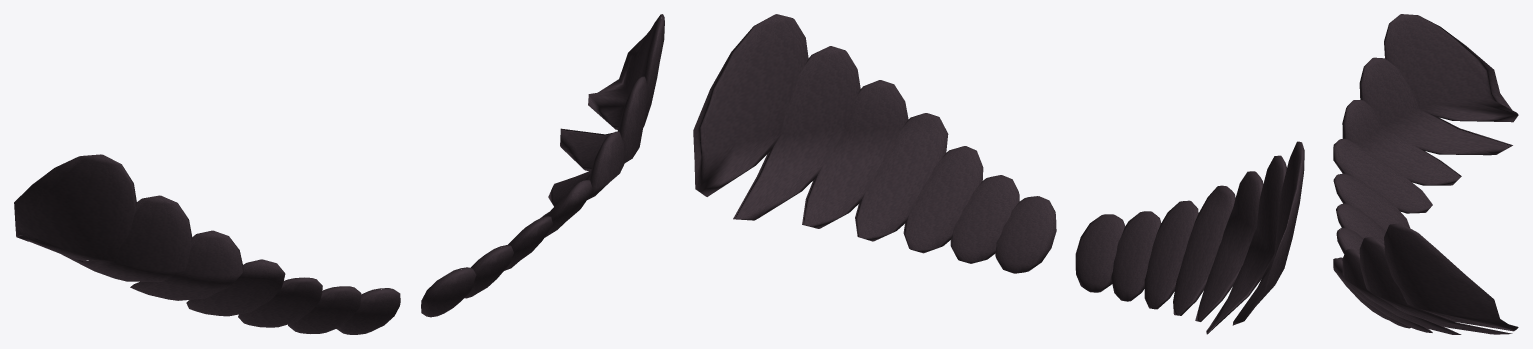
File: facial_chin_strap_default.gltf
The picture shows the model from 3 angles, left to right: view 1: azimuth 30°, elevation 25°; view 2: azimuth 150°, elevation 25°; view 3: azimuth 270°, elevation 25°; orthographic projection. The views are drawn at different scales.
Parts seen in each view (by area): view 1: Chin Strap; view 2: Chin Strap; view 3: Chin Strap.
Part boxes in pixels (box(x1,y1,x2,y2)): Chin Strap: box(14, 14, 664, 334); Chin Strap: box(693, 14, 1304, 334); Chin Strap: box(1333, 14, 1518, 334).
Size of the model in its own units: 0.3971 by 0.1409 by 0.1357.
Materials: 1 (1 with a texture image).
